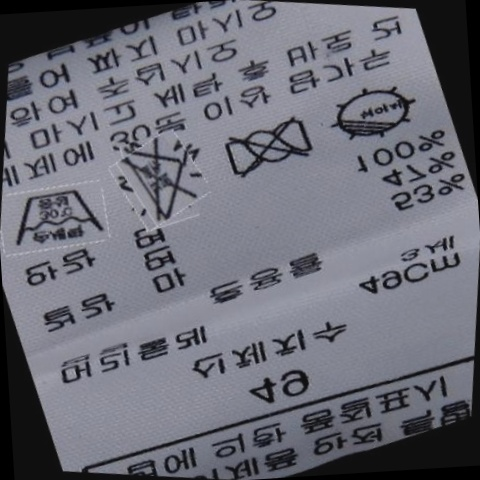DN_wring: (210, 112, 320, 181)
dry_flat_in_shade: (321, 78, 422, 149)
hand_wash: (6, 183, 107, 256)
non_chlorine_bleach: (116, 144, 205, 226)
